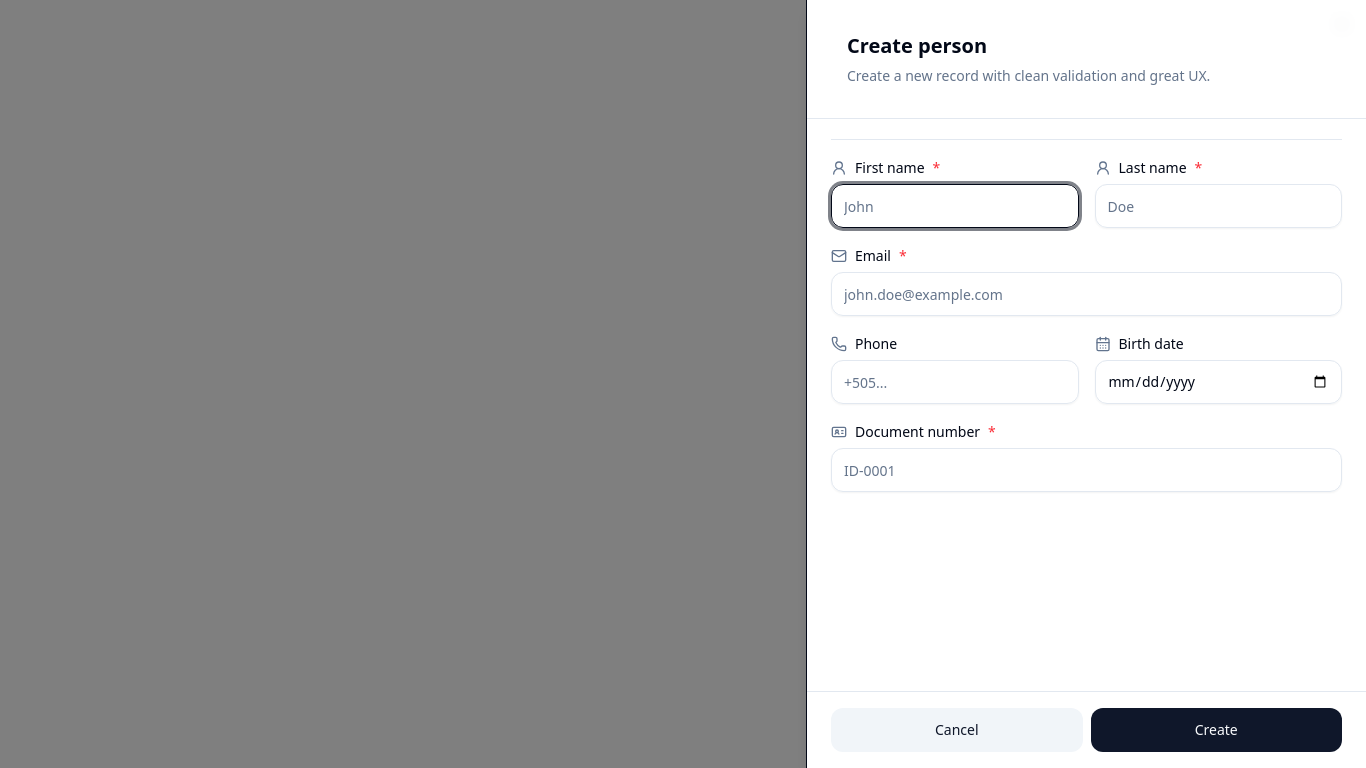
PersonSheetForm › shows validation errors when submitting empty form
Click the button "Create" at (1216, 730), box [1090,708,1342,752]
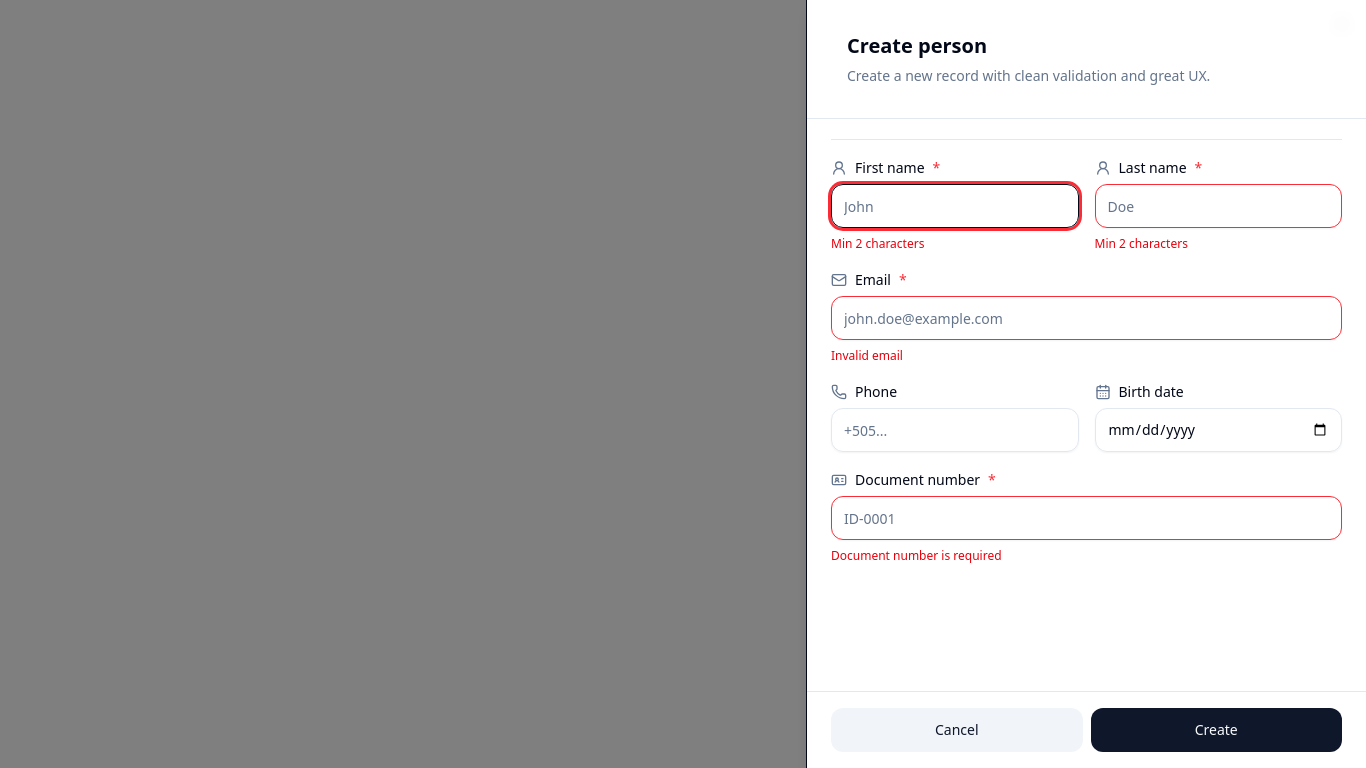
Check: the text "Invalid email" is shown, box [831,347,903,364]
Check: the text "Document number is required" is shown, box [831,547,1002,564]
